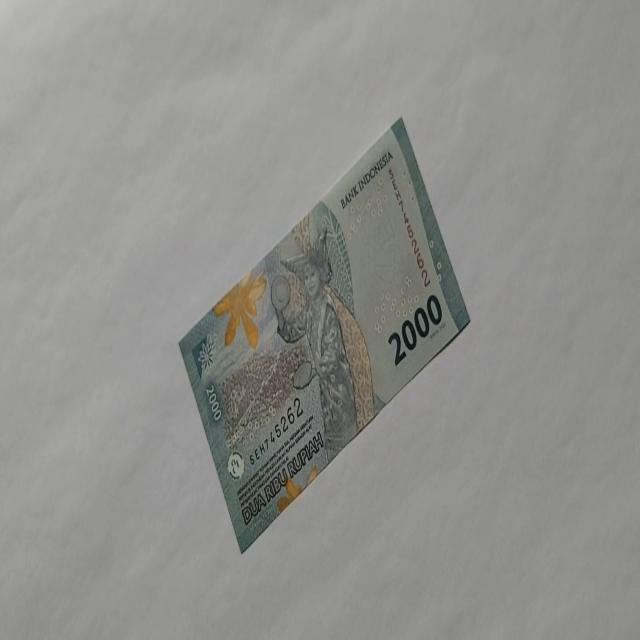dua ribu rupiah: (178, 115, 470, 553), (270, 224, 375, 464)
